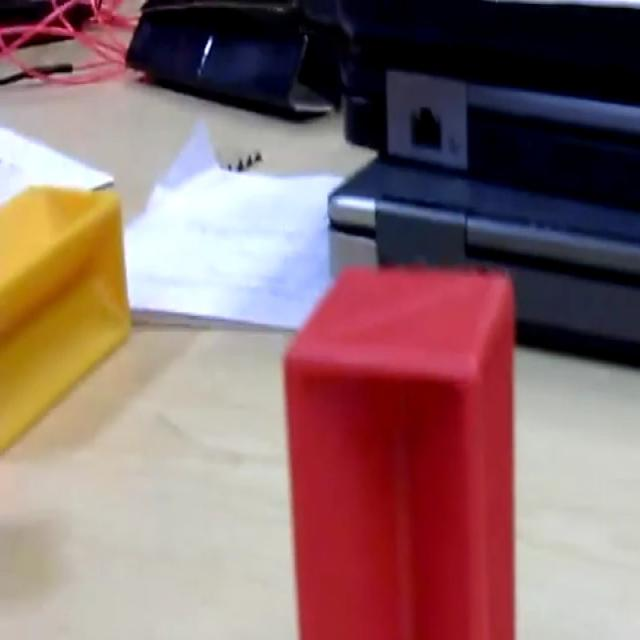red_block: (281, 260, 517, 636)
yellow_block: (0, 181, 131, 453)
